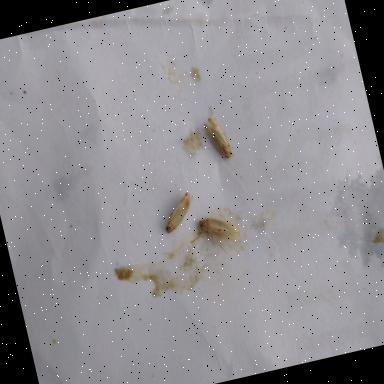pbw: (186, 210, 246, 262), (198, 102, 236, 166), (158, 191, 200, 234)
